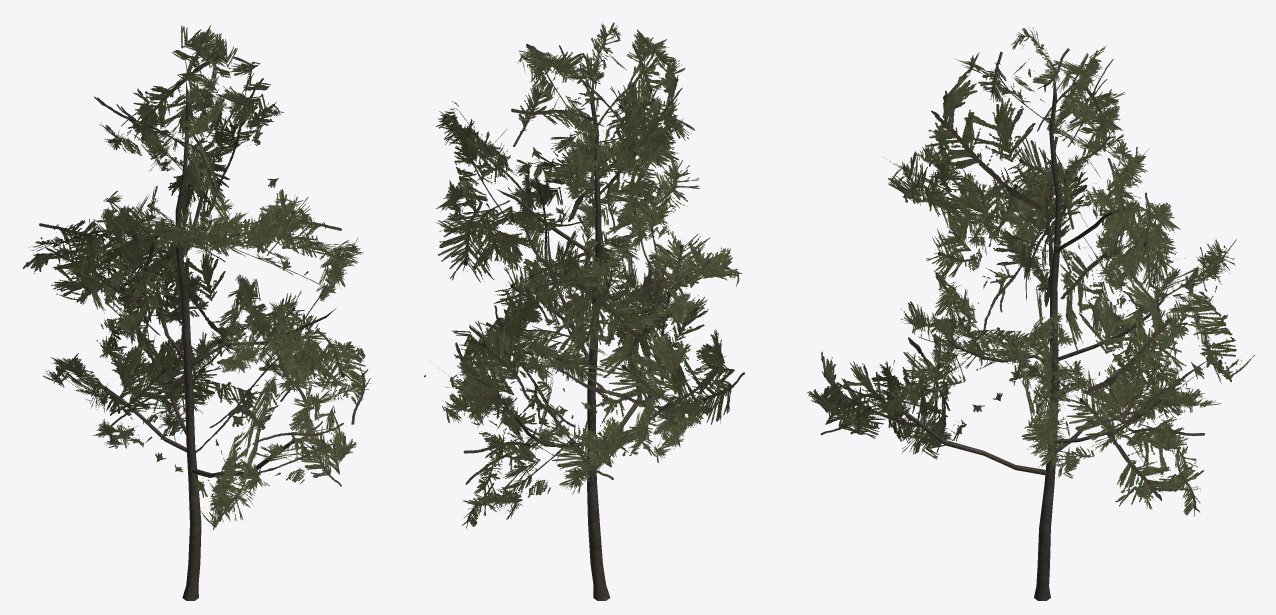
3 views of the same model, side by side, from view 1: azimuth 30°, elevation 25°; view 2: azimuth 150°, elevation 25°; view 3: azimuth 270°, elevation 25° (orthographic). The views are drawn at different scales.
Visible parts, largest first — view 1: pine_sapling_small__b_lod1; view 2: pine_sapling_small__b_lod1; view 3: pine_sapling_small__b_lod1.
Part boxes in pixels (x1,y1,x2,y2): pine_sapling_small__b_lod1: (23,25,371,600); pine_sapling_small__b_lod1: (424,22,744,600); pine_sapling_small__b_lod1: (807,27,1254,600).
Bounding box in the file's own units: 0.5686 × 1.06 × 0.7806.
2 materials, 2 textured.
